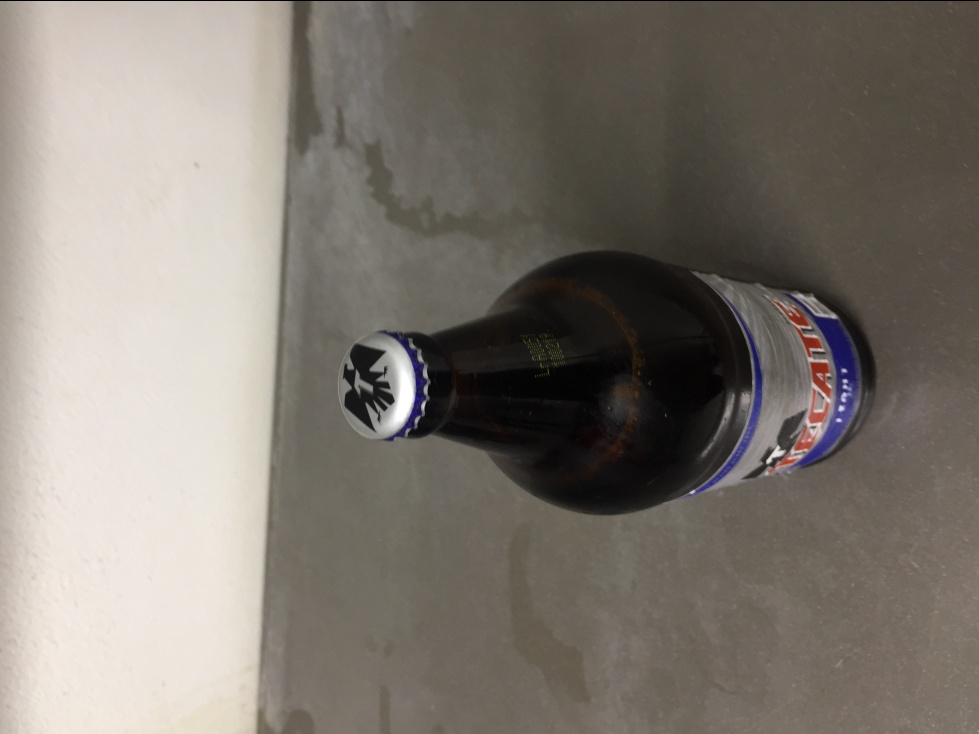tecateC: (338, 250, 875, 515)
